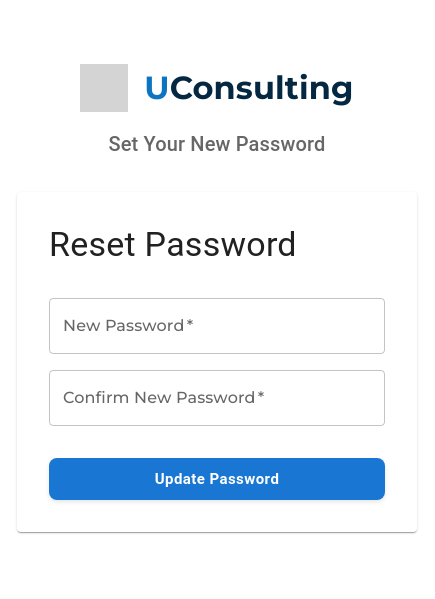
ResetPassword › does not submit when passwords do not match and shows an accessible inline error
Type "password1" into the password field labelled "New Password *". click: (217, 326)
box: [49,298,385,354]
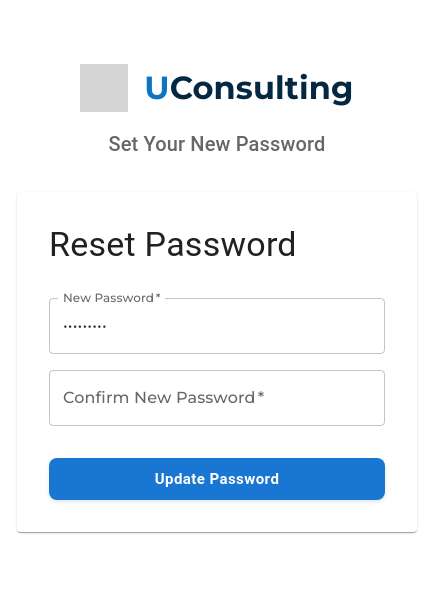
Type "password2" into the password field labelled "Confirm New Password *". click: (217, 398)
box: [49,370,385,426]
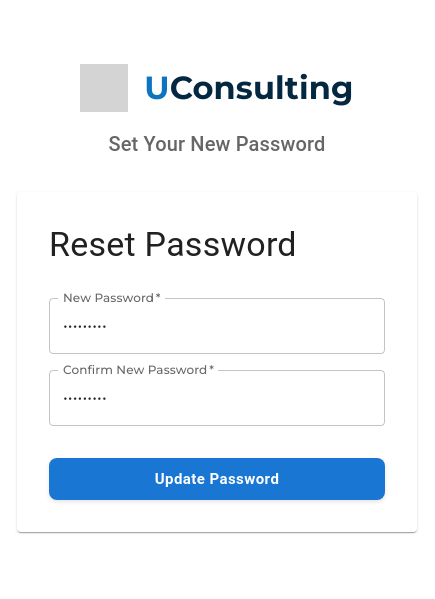
Submit the form with test id "reset-password-form", box [49,298,385,500]
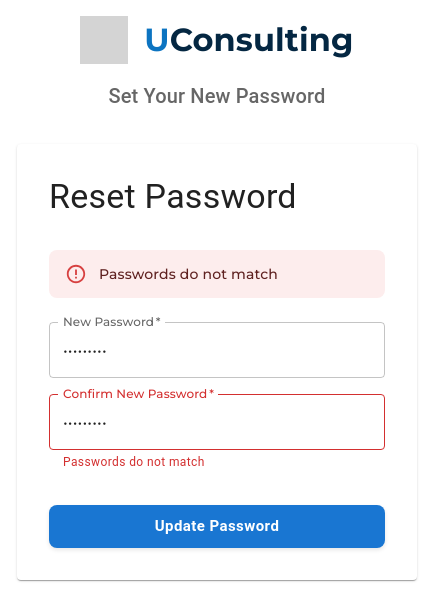
Expected: the text "Passwords do not match" below "Confirm New Password" is shown, [63,455,205,469]
